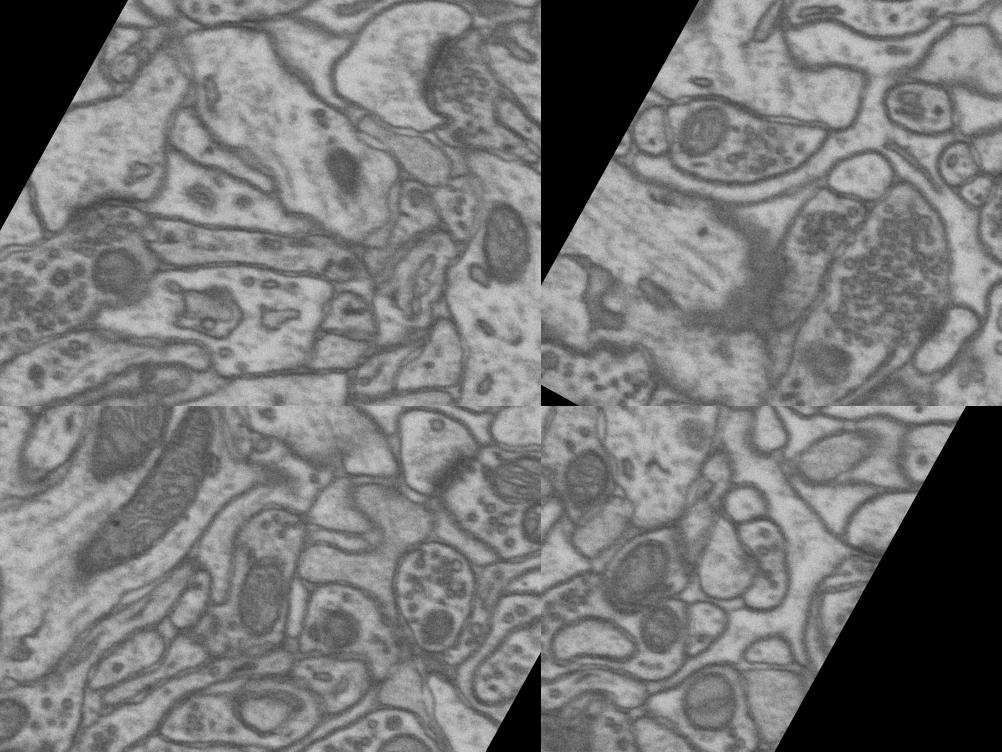mitochondria: (58, 406, 243, 612), (47, 406, 203, 506), (447, 183, 541, 297), (212, 543, 307, 649), (659, 652, 759, 752), (589, 522, 682, 628), (541, 430, 632, 530), (660, 85, 746, 176), (72, 226, 159, 312), (474, 432, 541, 525), (678, 0, 795, 50), (541, 342, 618, 406), (301, 594, 368, 664), (625, 594, 692, 660), (358, 717, 454, 752), (507, 470, 541, 563), (0, 680, 37, 752)
